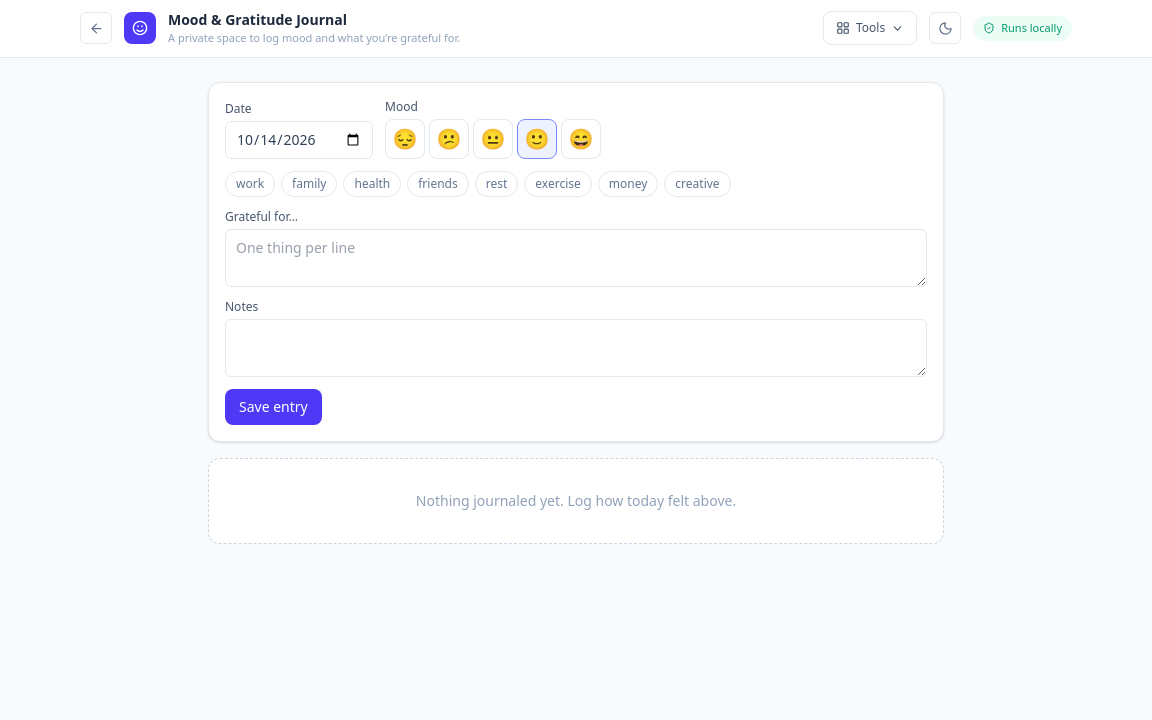
MoodApp › saves an entry with mood, tag, and gratitude
The image size is (1152, 720).
Type "2026-03-10" into the date field labelled "Date" at [299, 140], box [225,120,373,158]
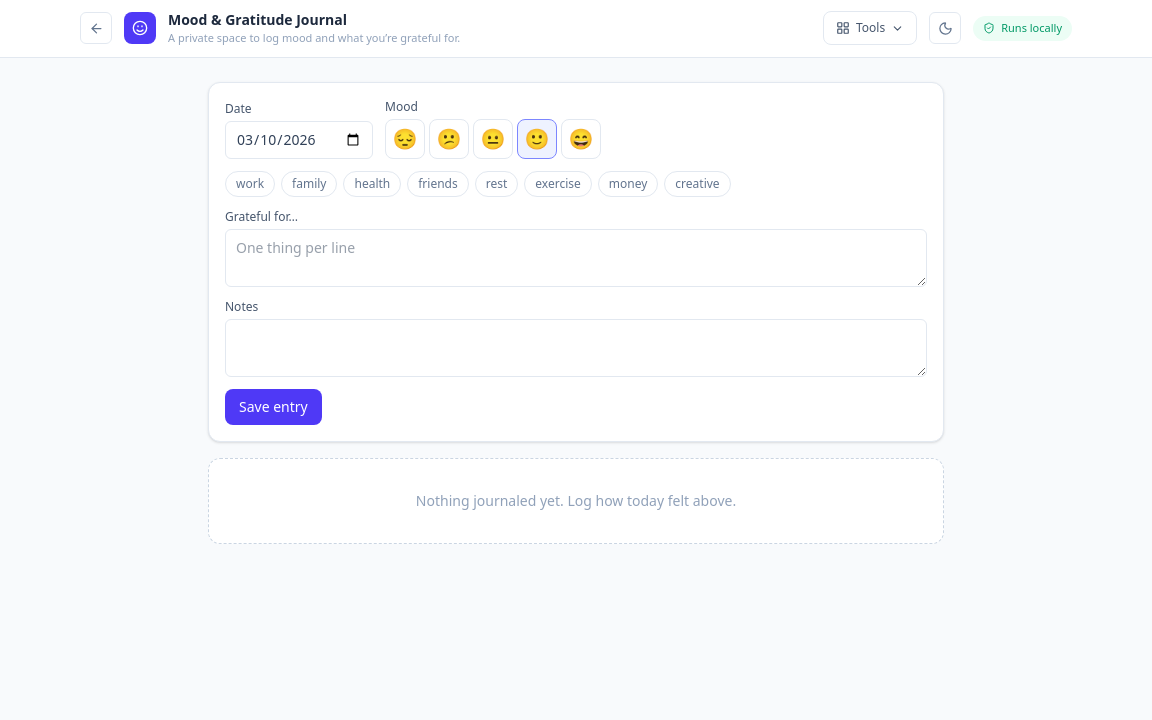
Click the radio button named "Great" at [581, 138], box [561,118,601,158]
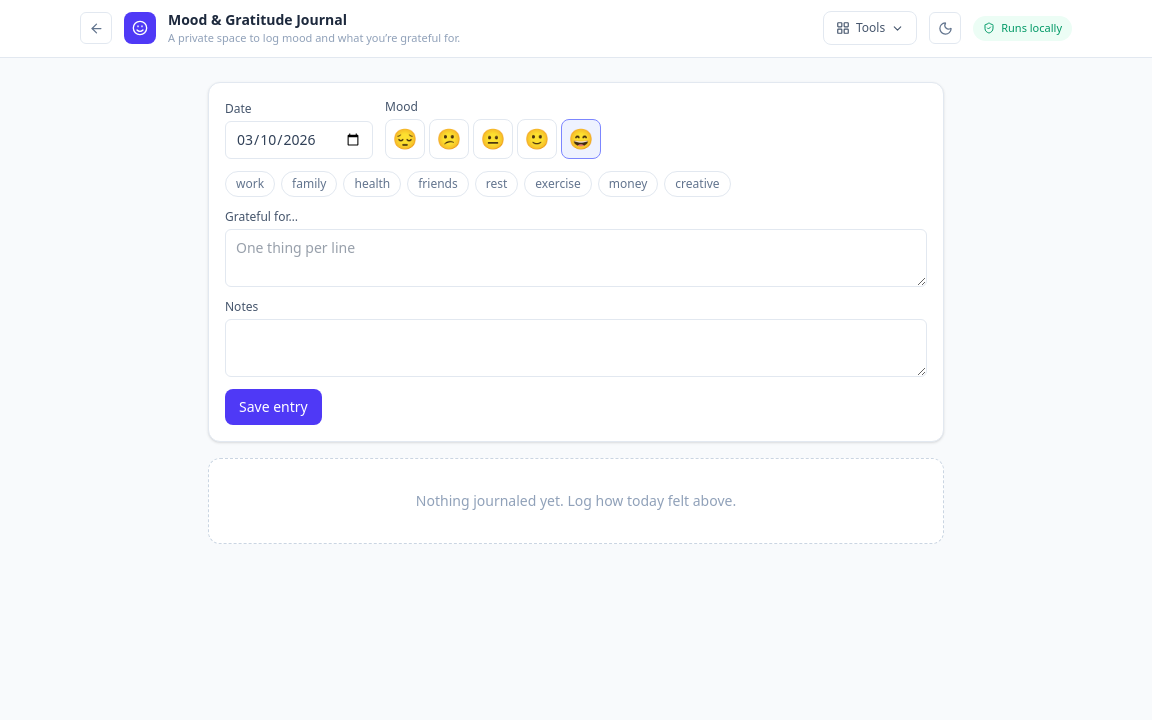
Click the button "rest" at [496, 184], box [475,170,518,196]
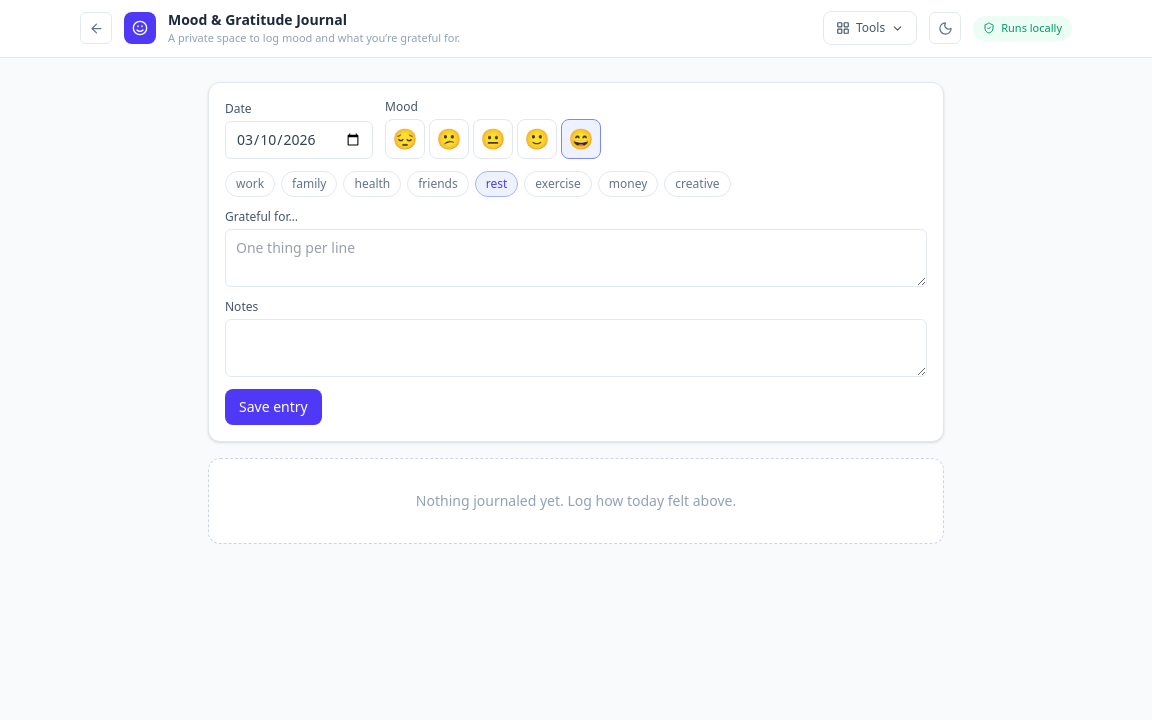
Type "Sunshine" into the text box labelled "Grateful for" at [576, 258], box [225,228,927,286]
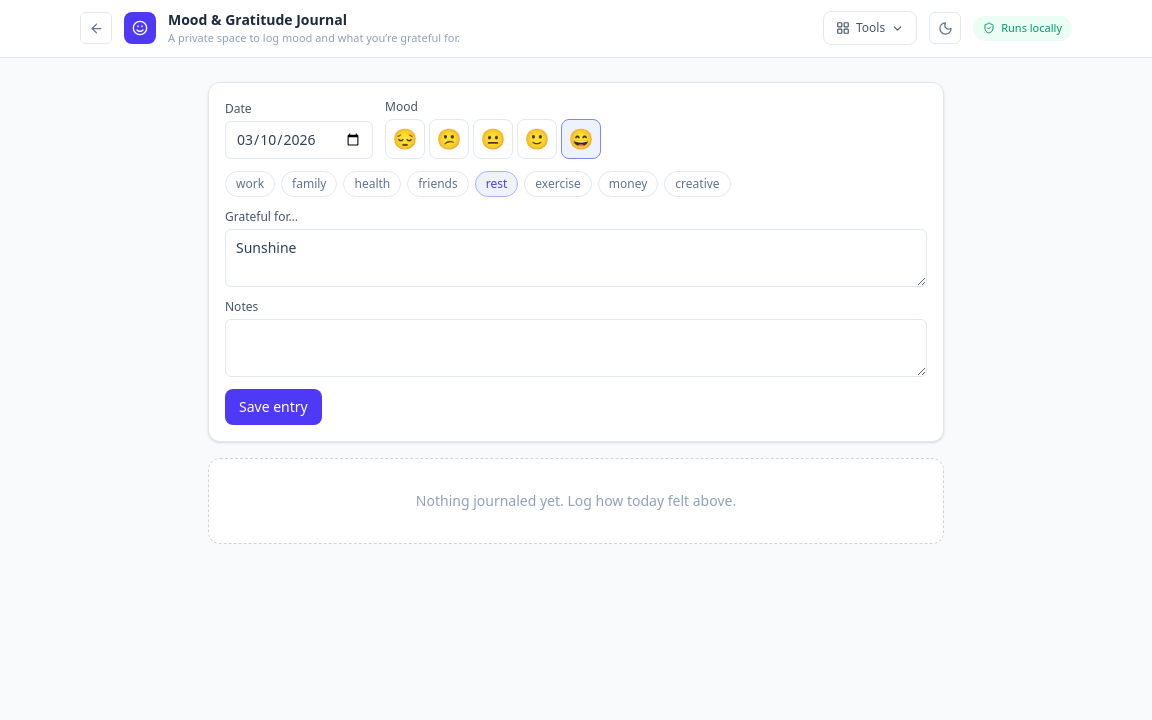
Click the button "Save entry" at [273, 406], box [225,388,322,424]
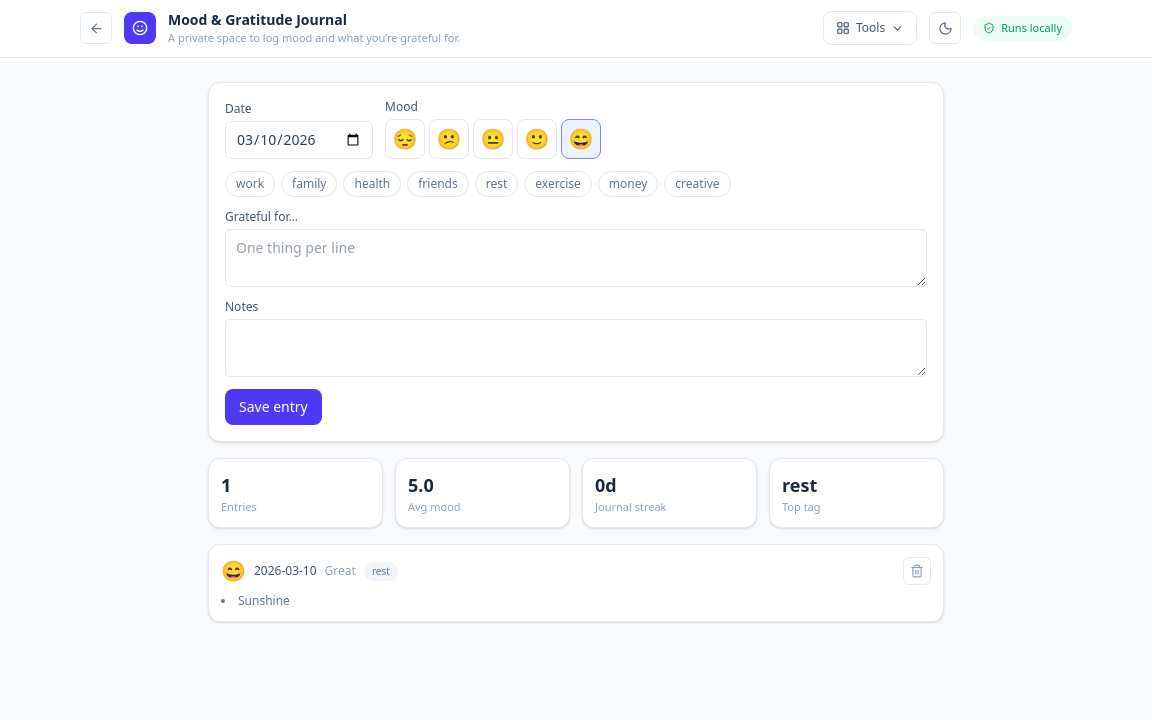
Result: the text "2026-03-10" is shown at [254,563,317,579]
Result: the list item "Sunshine" is shown at [238,592,290,609]
